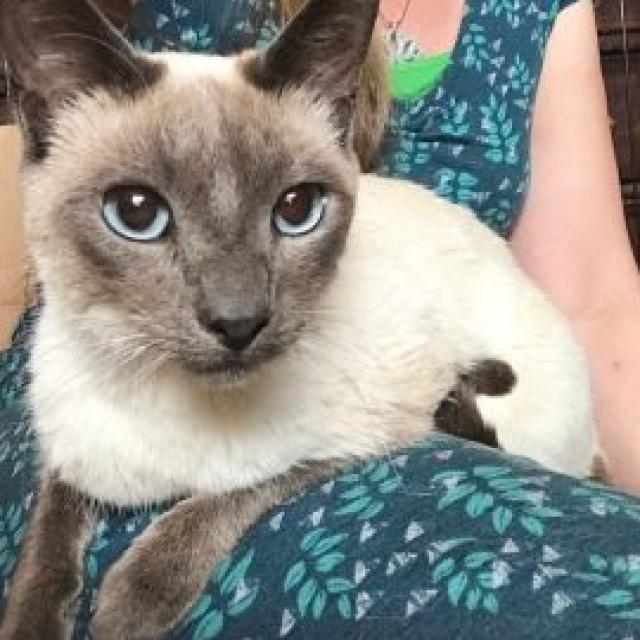Siamese: (0, 0, 612, 640)
